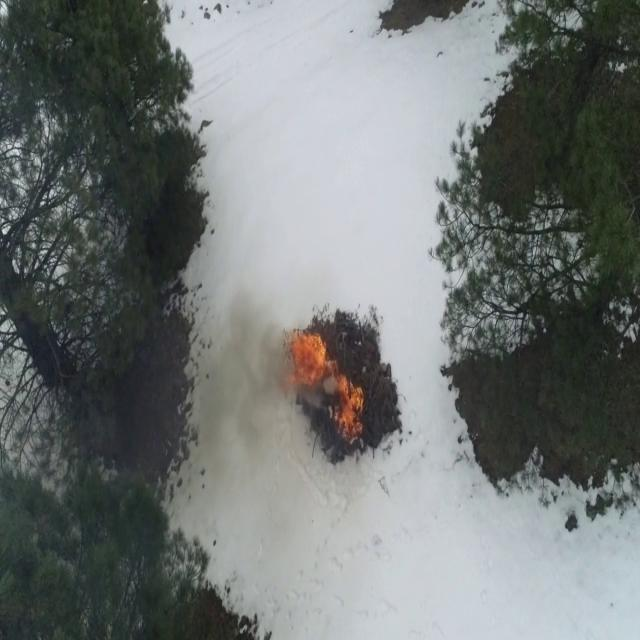fire: (290, 333, 326, 387), (337, 378, 364, 442)
